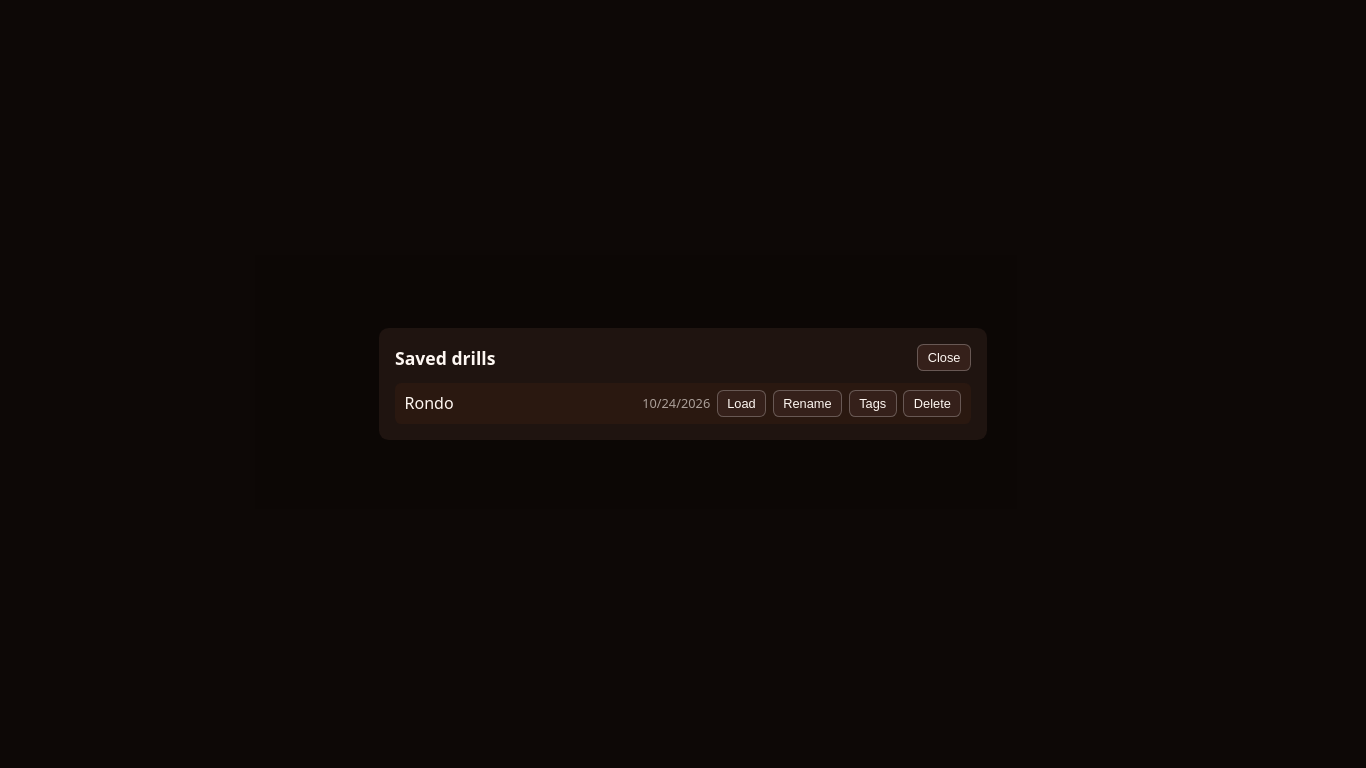
Scenario: deleting › says how many sessions use a drill before deleting it
Click the button "Delete" at (932, 403), box [903,390,961,417]
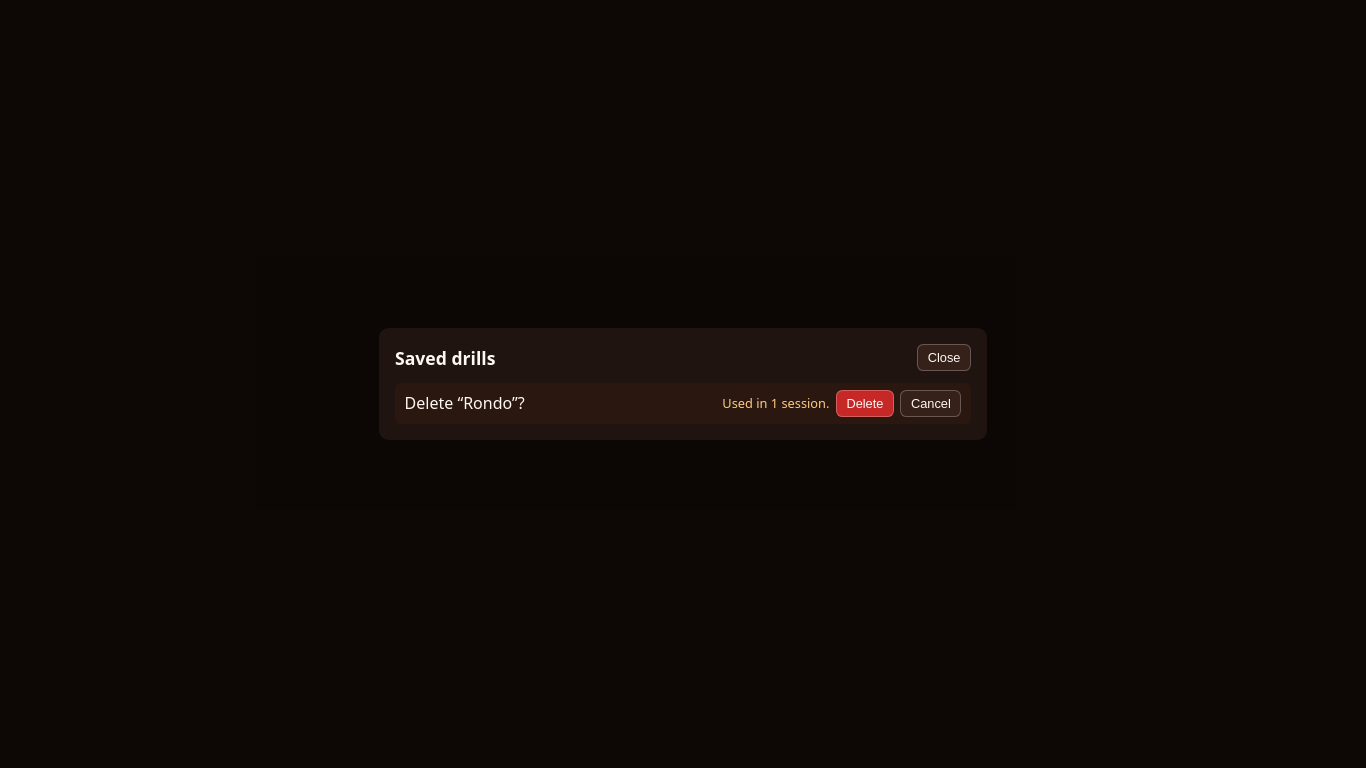
Check: the text "Used in 1 session." is shown, box [722,394,829,412]
